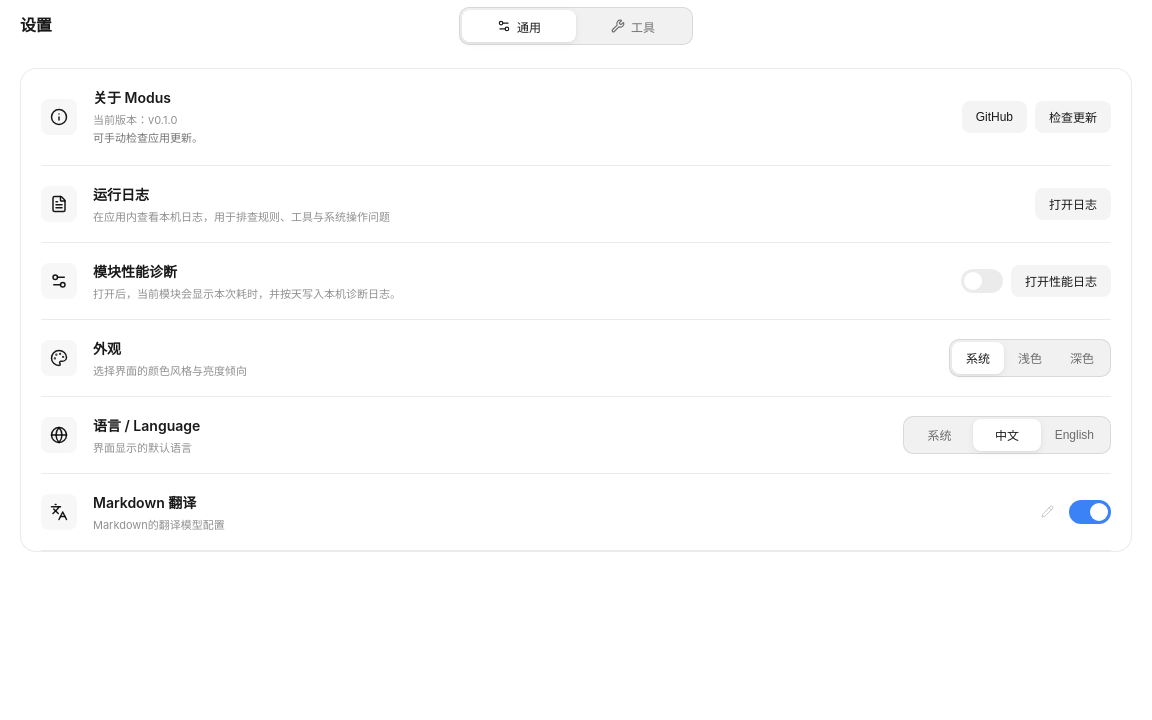
it: SettingsModule › re-renders translation provider status messages when the language changes
The image size is (1152, 720).
Click the button named "编辑翻译设置". click: (1047, 512)
box: [1033,498,1061,526]
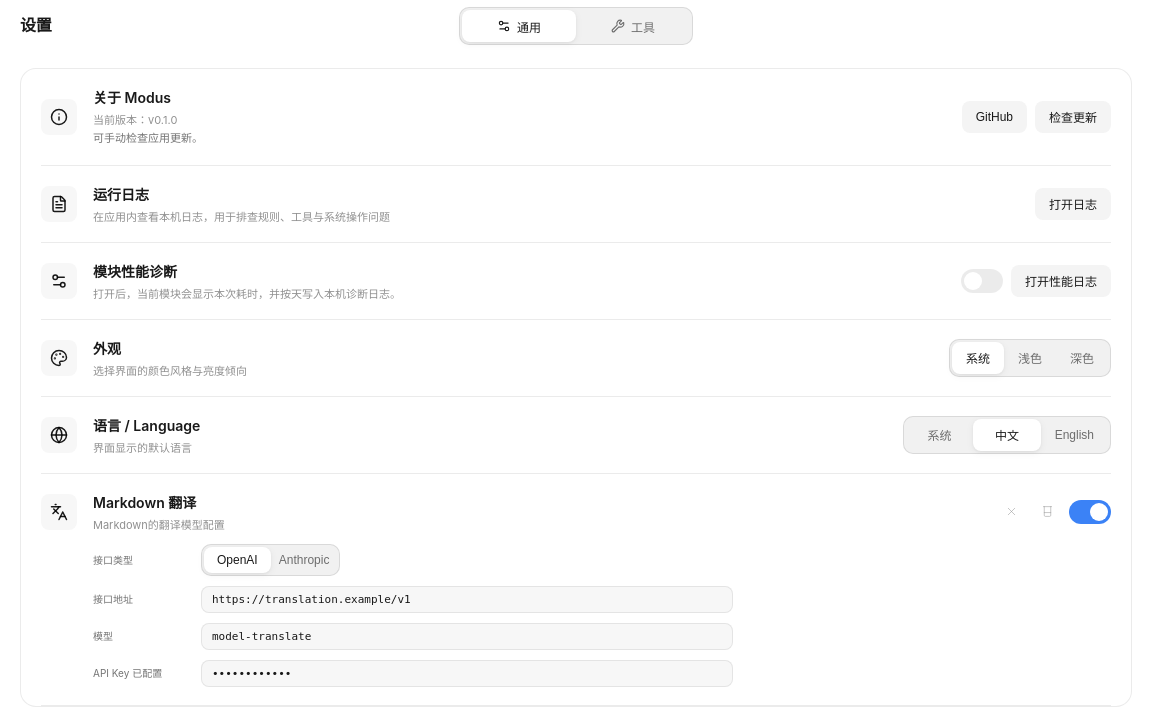
Click the button named "测试". click: (1047, 512)
box: [1033,498,1061,526]
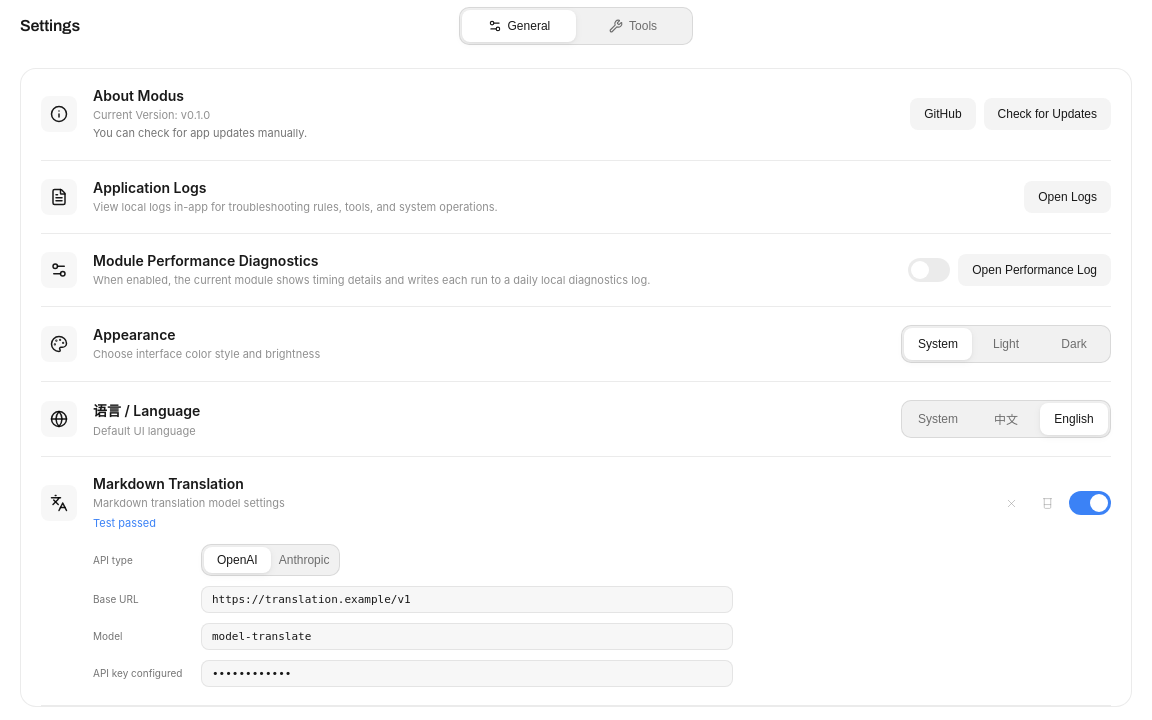
Check: the text "Test passed" is shown, box [93,516,156,530]
